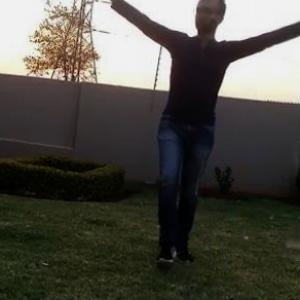takeoff: (109, 0, 299, 260)
